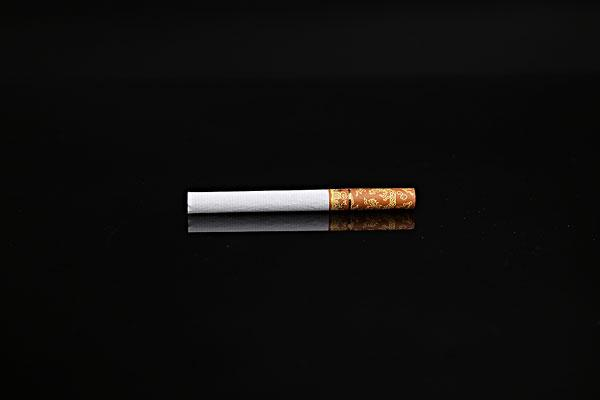smoke: (185, 187, 422, 215), (186, 213, 417, 234)
